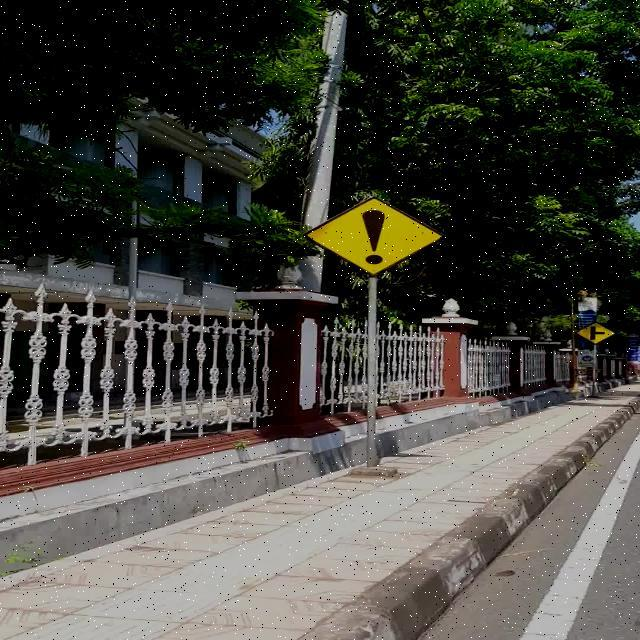Hati-Hati: (303, 196, 445, 276)
